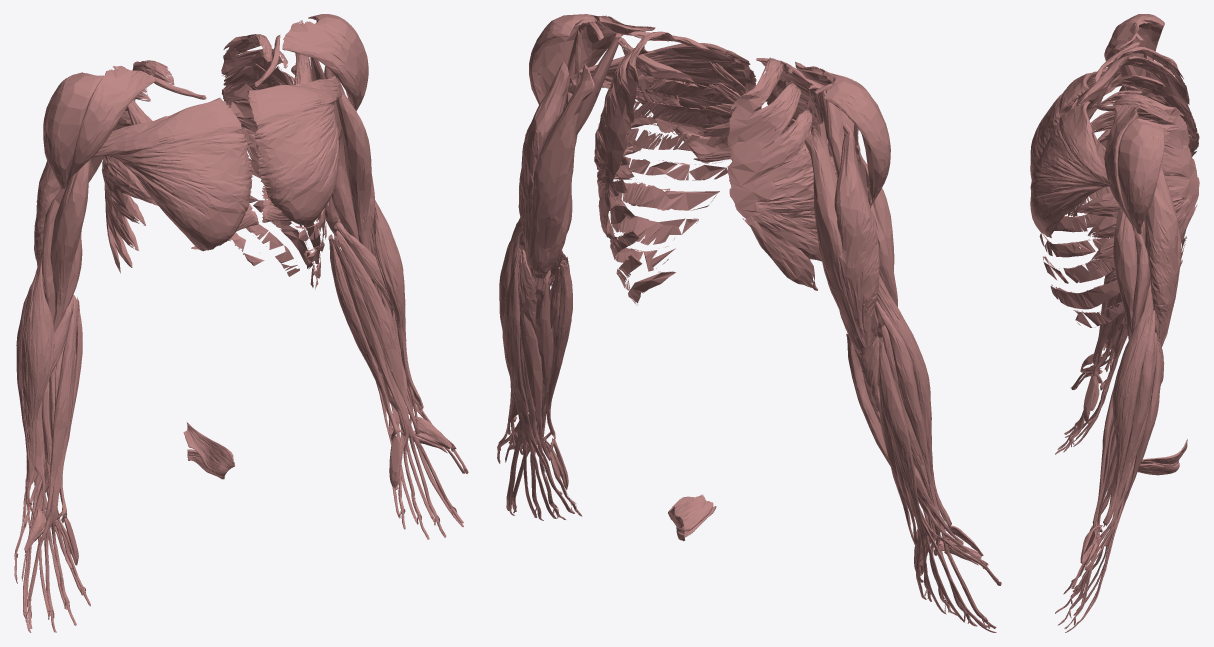
The model's file is muscular-02.glb.
3 views of the same model, side by side, from view 1: azimuth 30°, elevation 25°; view 2: azimuth 150°, elevation 25°; view 3: azimuth 270°, elevation 25° (orthographic). The views are drawn at different scales.
Visible parts, largest first — view 1: FJ1464, FJ1464M, FJ1487, FJ1455M, FJ1459, FJ1468, FJ1467, FJ1478, FJ1475M, FJ1468M, FJ1478M, FJ1459M (+19 smaller); view 2: FJ1459, FJ1455M, FJ1477, FJ1479M, FJ1459M, FJ1464M, FJ1479, FJ1492, FJ1492M, FJ1467, FJ1477M, FJ1467M (+25 smaller); view 3: FJ1464M, FJ1459M, FJ1455M, FJ1459, FJ1467M, FJ1487M, FJ1477M, FJ1478M, FJ1464, FJ1490M, FJ1492M, FJ1468M (+20 smaller).
Boxes of the visible parts, bbox=[...] form: FJ1464: bbox=[92, 97, 252, 251]; FJ1464M: bbox=[247, 76, 341, 226]; FJ1487: bbox=[21, 250, 54, 508]; FJ1455M: bbox=[228, 51, 326, 288]; FJ1459: bbox=[102, 60, 174, 273]; FJ1468: bbox=[66, 66, 156, 186]; FJ1467: bbox=[43, 72, 103, 189]; FJ1478: bbox=[50, 160, 89, 332]; FJ1475M: bbox=[330, 234, 457, 525]; FJ1468M: bbox=[282, 20, 360, 108]; FJ1478M: bbox=[335, 75, 371, 250]; FJ1459M: bbox=[221, 34, 328, 228]; FJ1459: bbox=[727, 57, 837, 290]; FJ1455M: bbox=[608, 74, 736, 305]; FJ1477: bbox=[834, 132, 879, 354]; FJ1479M: bbox=[528, 63, 594, 274]; FJ1459M: bbox=[594, 31, 674, 238]; FJ1464M: bbox=[567, 43, 761, 163]; FJ1479: bbox=[804, 121, 866, 353]; FJ1492: bbox=[879, 337, 988, 627]; FJ1492M: bbox=[502, 248, 574, 518]; FJ1467: bbox=[823, 75, 890, 205]; FJ1477M: bbox=[518, 62, 568, 273]; FJ1467M: bbox=[529, 14, 596, 104]; FJ1464M: bbox=[1030, 101, 1109, 236]; FJ1459M: bbox=[1077, 93, 1199, 282]; FJ1455M: bbox=[1039, 151, 1186, 329]; FJ1459: bbox=[1090, 47, 1199, 156]; FJ1467M: bbox=[1117, 119, 1164, 233]; FJ1487M: bbox=[1103, 277, 1153, 527]; FJ1477M: bbox=[1147, 185, 1180, 347]; FJ1478M: bbox=[1113, 208, 1137, 340]; FJ1464: bbox=[1030, 67, 1134, 180]; FJ1490M: bbox=[1104, 310, 1155, 546]; FJ1492M: bbox=[1073, 346, 1161, 623]; FJ1468M: bbox=[1104, 104, 1138, 230].
Size of the model in its own units: 0.6388 by 0.6899 by 0.2246.
